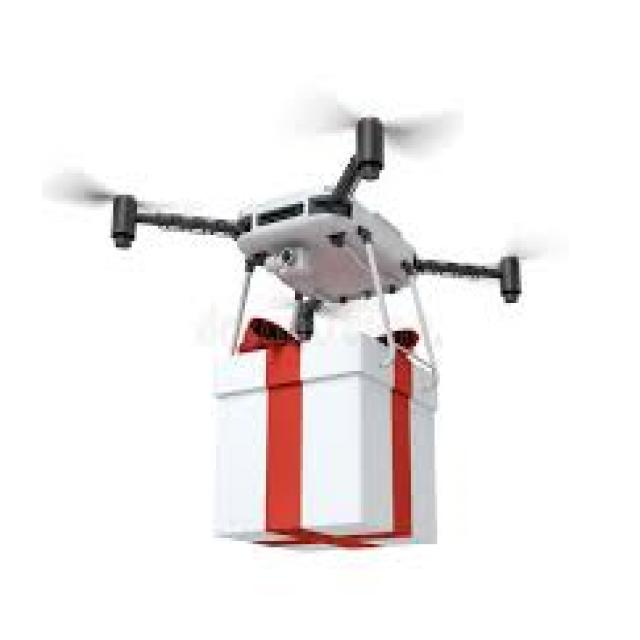drones: (30, 59, 592, 390)
